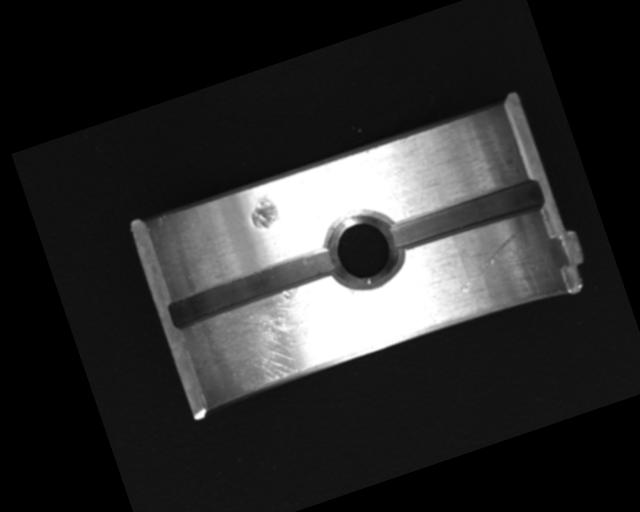bruise: (245, 193, 282, 234)
gap: (165, 243, 344, 333), (387, 175, 546, 256)
hole: (318, 201, 410, 296)
nick: (448, 226, 534, 295)
scratch: (185, 273, 366, 406)
